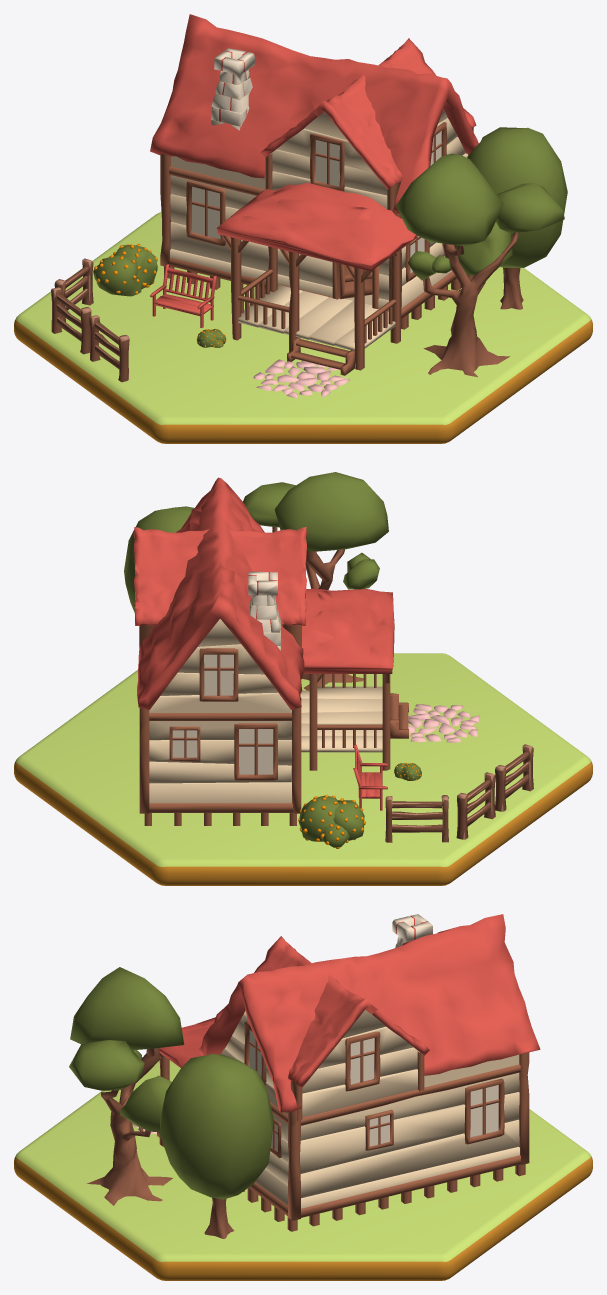
3 views of the same model, one above another, from view 1: azimuth 30°, elevation 25°; view 2: azimuth 150°, elevation 25°; view 3: azimuth 270°, elevation 25° (orthographic).
Visible parts, largest first — view 1: a_test_01; view 2: a_test_01; view 3: a_test_01.
Boxes of the visible parts, left/top/right/bottom form: a_test_01: left=14, top=14, right=592, bottom=443; a_test_01: left=14, top=472, right=592, bottom=885; a_test_01: left=14, top=914, right=592, bottom=1280.
Size of the model in its own units: 173 by 97.05 by 198.
